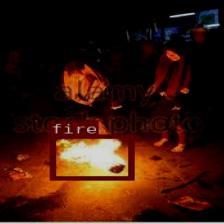fire: (49, 134, 132, 180)
